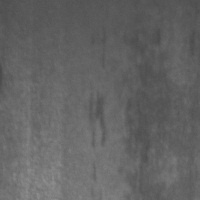inclusion: (126, 20, 176, 195), (82, 83, 113, 154), (93, 20, 114, 73)
